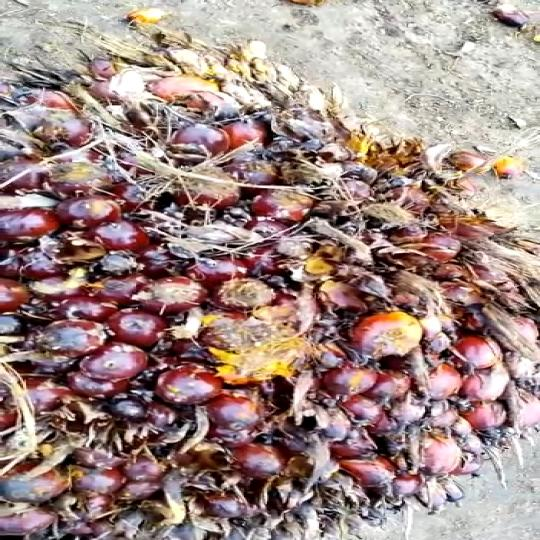masak: (0, 29, 540, 540)
